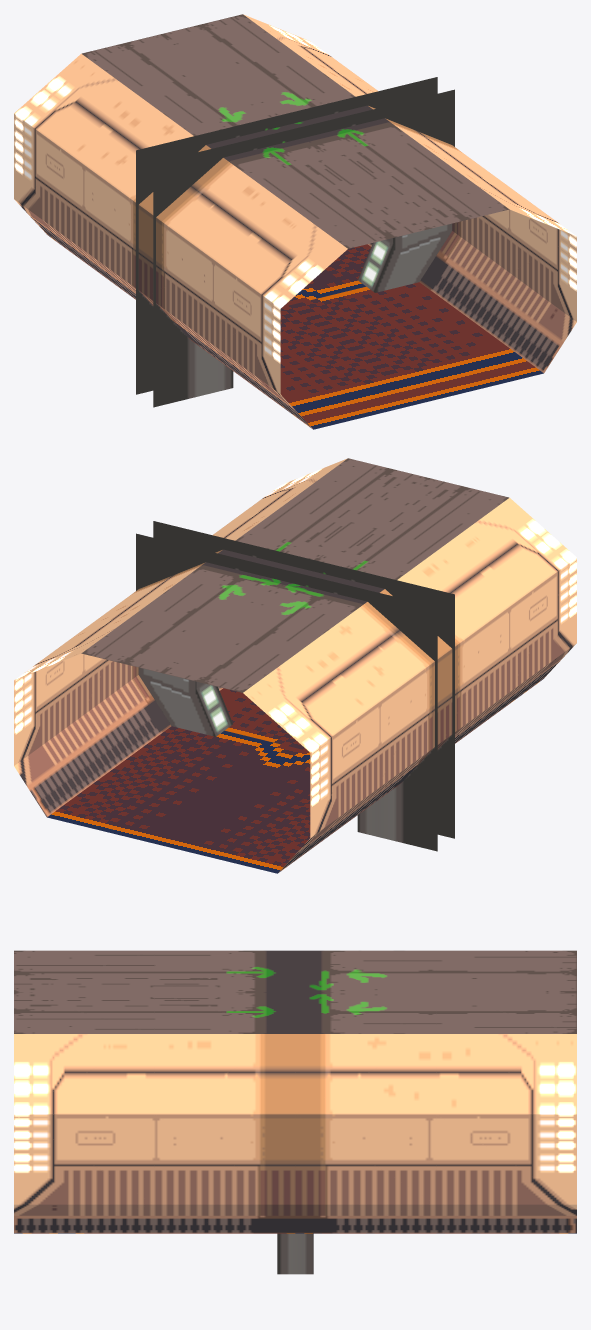
File: corridor.fbx
3 renders of one model, top to bottom at view 1: azimuth 30°, elevation 25°; view 2: azimuth 150°, elevation 25°; view 3: azimuth 270°, elevation 25°, orthographic. The views are drawn at different scales.
Visible parts, largest first — view 1: corridor_wall, corridor_floor_1, corridor_seg.001; view 2: corridor_wall, corridor_floor_1, corridor_seg.001; view 3: corridor_wall, corridor_seg.001, corridor_floor_1.
Part boxes in pixels (<box>): corridor_wall: <box>14,14,576,428</box>; corridor_floor_1: <box>48,235,543,429</box>; corridor_seg.001: <box>136,77,454,407</box>; corridor_wall: <box>14,458,576,872</box>; corridor_floor_1: <box>47,679,542,873</box>; corridor_seg.001: <box>136,521,454,851</box>; corridor_wall: <box>14,950,576,1233</box>; corridor_seg.001: <box>277,1233,313,1274</box>; corridor_floor_1: <box>14,1233,576,1233</box>.
Size of the model in its own units: 522 by 404 by 800.
